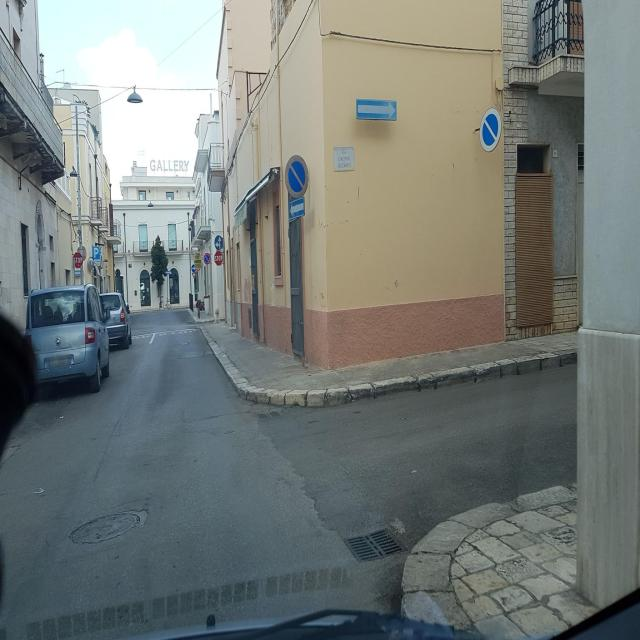forb_stopping: (285, 155, 309, 199), (481, 110, 501, 156), (203, 253, 211, 266)
